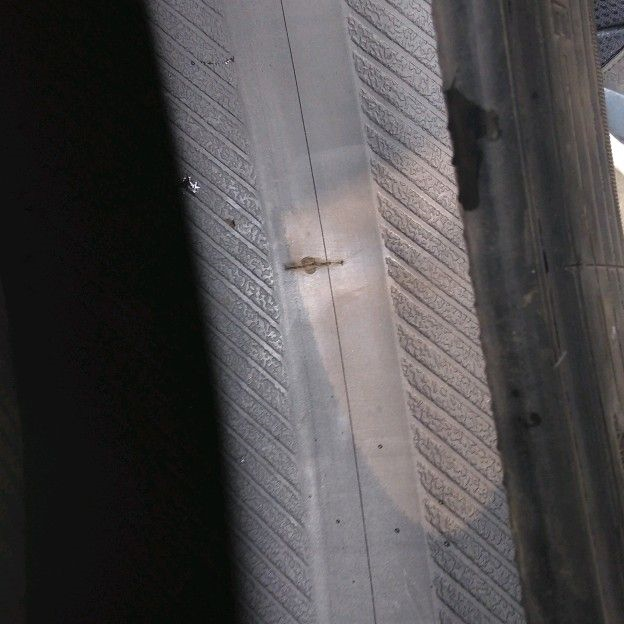cut: (284, 255, 348, 272)
